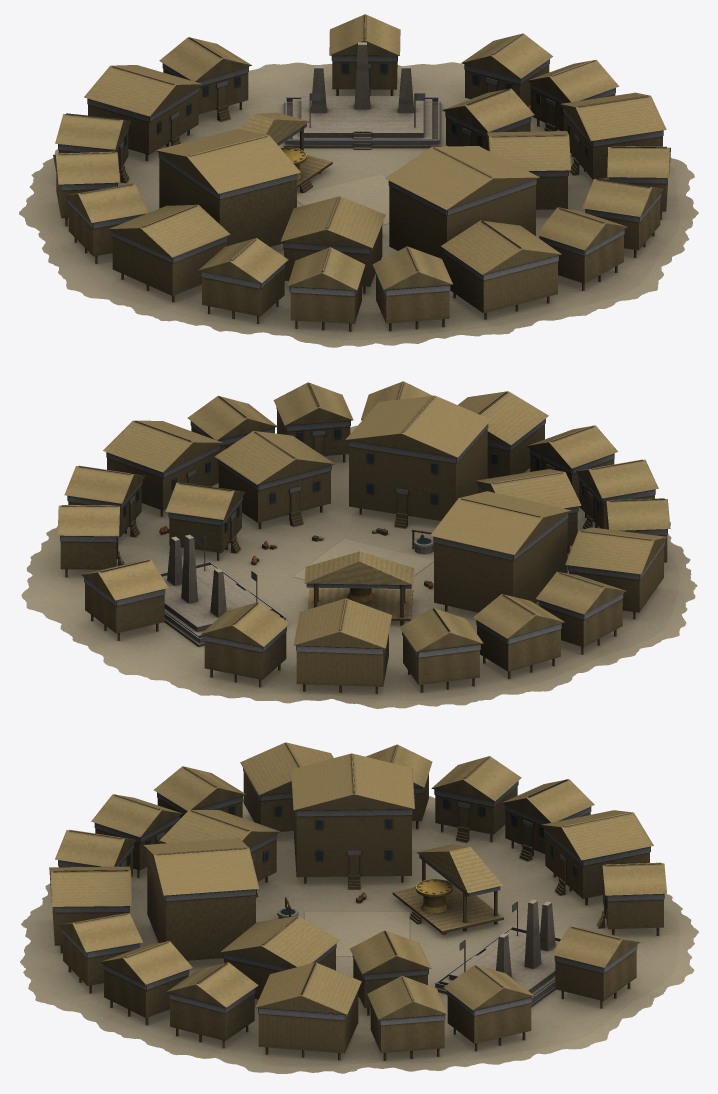
File: bronze-town-big-a-monsoon.glb
3 renders of one model, top to bottom at view 1: azimuth 30°, elevation 25°; view 2: azimuth 150°, elevation 25°; view 3: azimuth 270°, elevation 25°, orthographic.
Visible parts, largest first — view 1: LOD0; view 2: LOD0; view 3: LOD0.
Boxes of the visible parts, x1,y1,x2,y2 form: LOD0: [19, 14, 698, 347]; LOD0: [21, 381, 697, 708]; LOD0: [20, 742, 698, 1073].
Size of what is drawn, in the model's own units: 8 by 1.22 by 7.89.
Materials: 3 (3 with a texture image).
